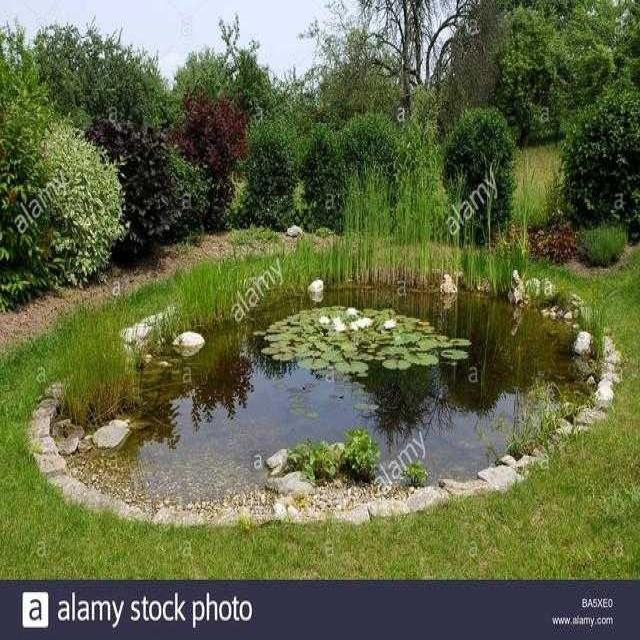Ponds: (25, 254, 626, 528)
